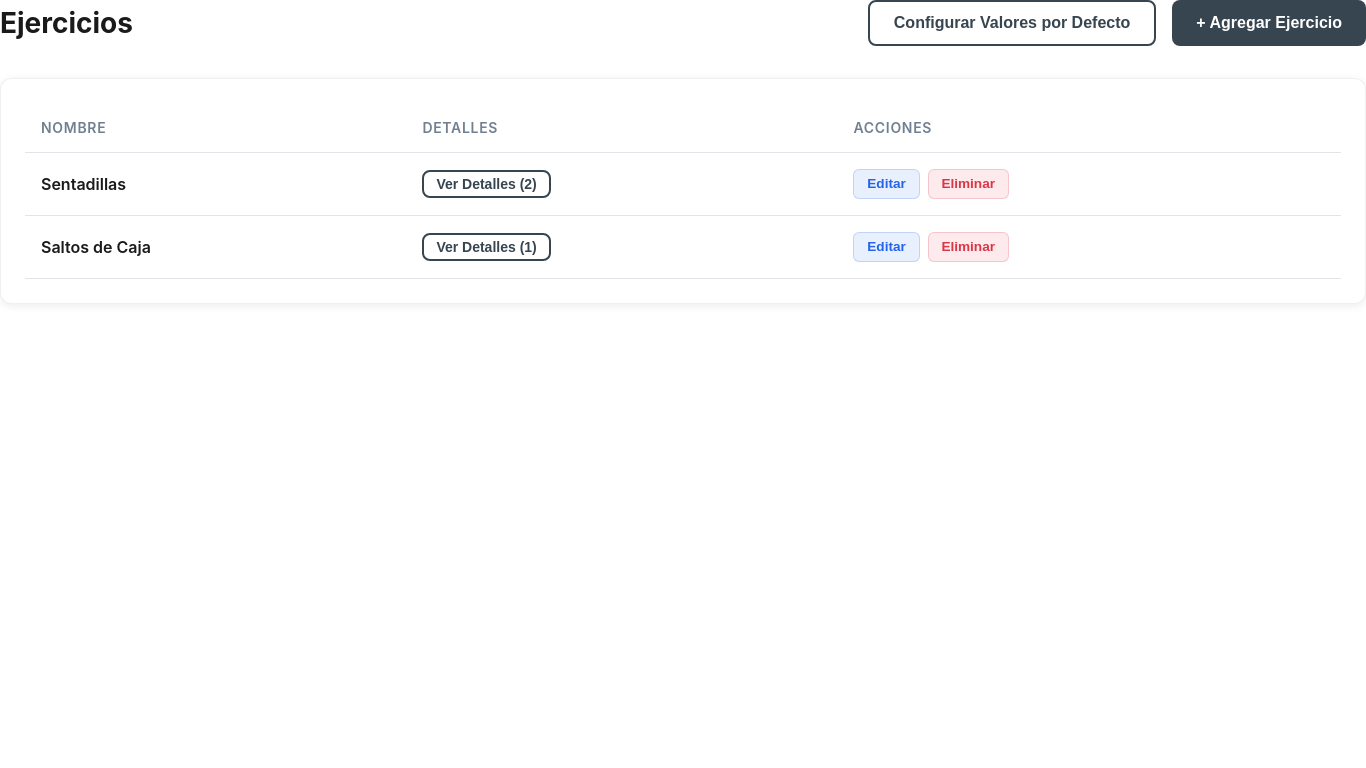
Test: ExercisesPage › abre el modal de ver campos al hacer clic en "Ver Detalles"
Click the button "Ver Detalles (2)".
click(487, 184)  # box [422,170,551,198]
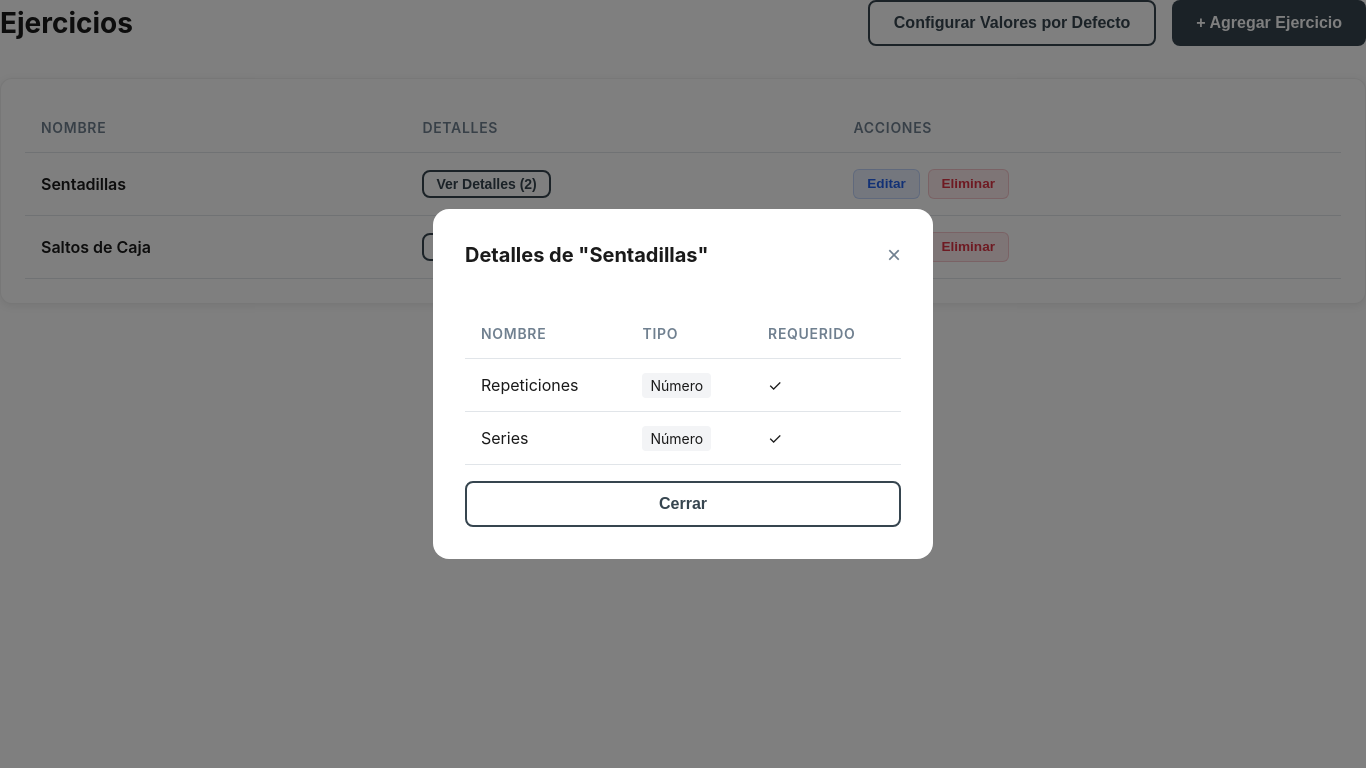
Expected: the heading "Detalles de \"Sentadillas\"" is shown, [465,243,708,267]
Expected: the text "Repeticiones" is shown, [465,358,626,412]
Expected: the text "Series" is shown, [465,412,626,464]
